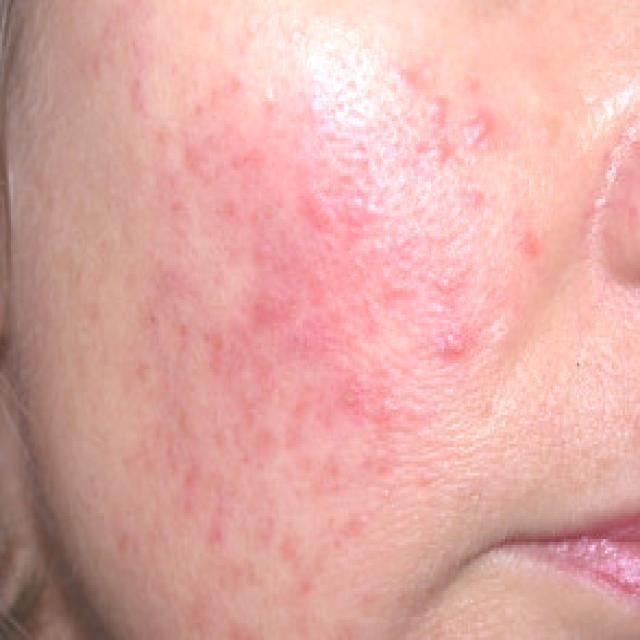Rosacea: (108, 28, 541, 595)
